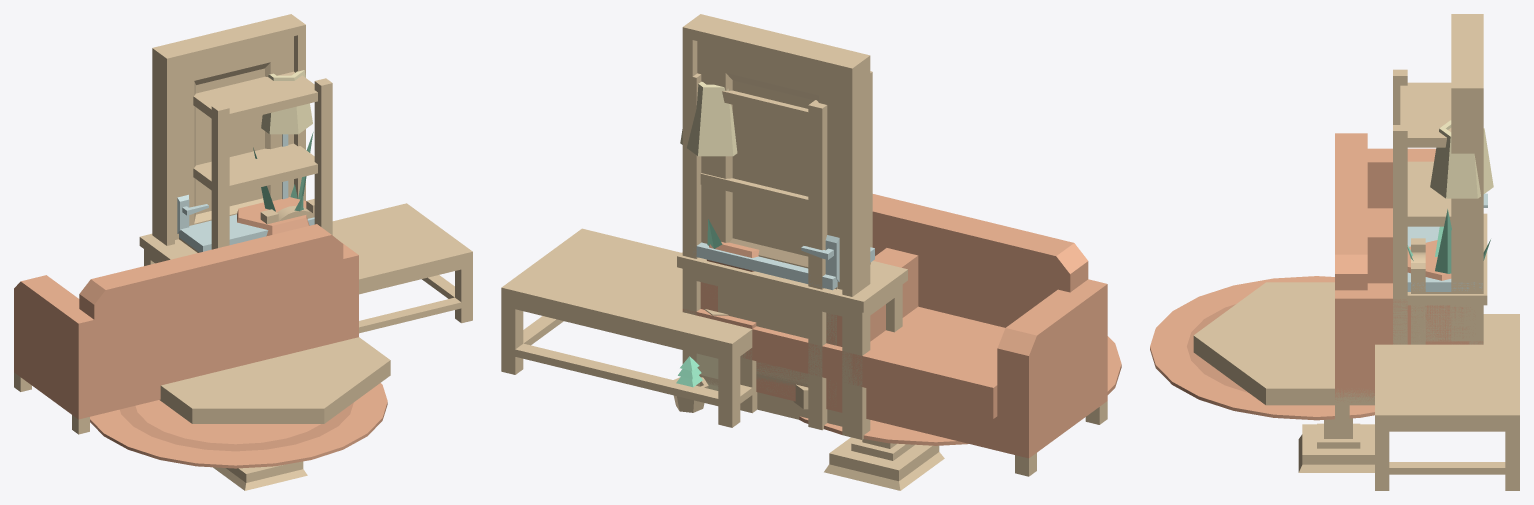
The model's file is lounge-kit.glb.
3 renders of one model, left to right at view 1: azimuth 30°, elevation 25°; view 2: azimuth 150°, elevation 25°; view 3: azimuth 270°, elevation 25°, orthographic. The views are drawn at different scales.
Visible parts, largest first — view 1: loungeSofa, tableRound, bookcaseOpen, rugRound, door 3, tableCoffee, loungeChair, doorway, lampRoundFloor, kitchenBar, stoolBar, sideTable (+1 smaller); view 2: loungeSofa, tableCoffee, door 3, doorway, bookcaseOpen, sideTable, loungeChair, kitchenBar, tableRound, lampRoundFloor, rugRound, chairCushion (+1 smaller); view 3: tableRound, tableCoffee, bookcaseOpen, loungeChair, doorway, rugRound, loungeSofa, lampRoundFloor, kitchenBar, chairCushion, sideTable, plant (+1 smaller).
Part boxes in pixels (x1,y1,x2,y2): loungeSofa: (14,224,358,434); tableRound: (160,337,390,490); bookcaseOpen: (193,71,332,249); rugRound: (90,383,387,468); door 3: (175,36,293,239); tableCoffee: (332,203,472,333); loungeChair: (218,224,358,370); doorway: (152,14,305,245); lampRoundFloor: (261,70,312,199); kitchenBar: (179,214,314,252); stoolBar: (237,197,309,236); sideTable: (139,233,197,265); loungeSofa: (751,194,1107,476); tableCoffee: (501,228,756,427); door 3: (697,41,842,426); doorway: (682,14,870,436); bookcaseOpen: (682,71,872,430); sideTable: (677,252,907,439); loungeChair: (700,194,918,412); kitchenBar: (693,242,874,399); tableRound: (793,384,944,490); lampRoundFloor: (680,81,737,156); rugRound: (799,336,1121,445); chairCushion: (682,309,757,413); tableRound: (1193,282,1374,472); tableCoffee: (1375,314,1519,490); bookcaseOpen: (1393,69,1483,344); loungeChair: (1335,208,1475,420); doorway: (1451,14,1483,344); rugRound: (1150,276,1374,420); loungeSofa: (1335,133,1435,298); lampRoundFloor: (1430,120,1493,198); kitchenBar: (1407,226,1482,342); chairCushion: (1411,238,1483,344); sideTable: (1407,213,1487,312); plant: (1407,209,1490,273).
Size of the model in its own units: 3.6 by 3.2 by 2.55.
